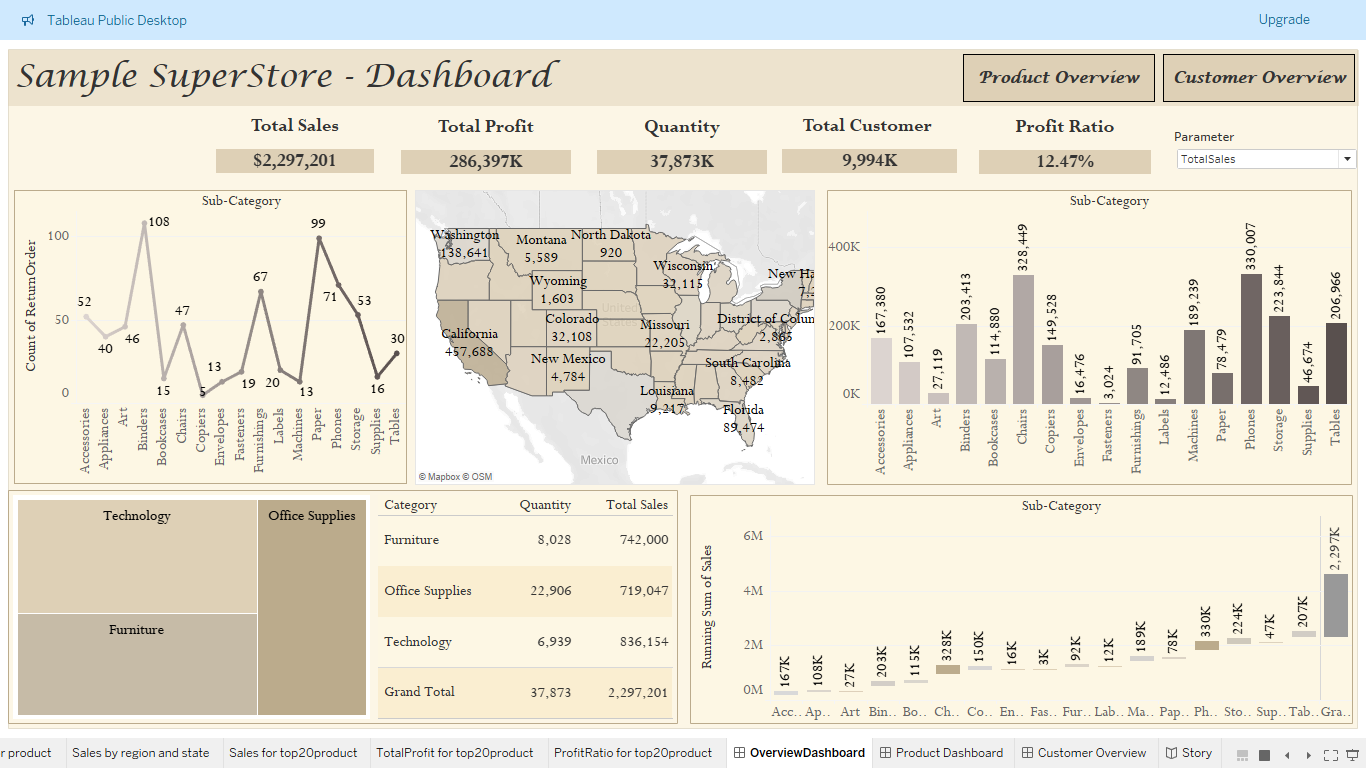

The page's visual inventory and layout, read from the dashboard file:
{"tool":"tableau","page":{"name":"OverviewDashboard","canvas":[1350,680],"ordinal":1},"visuals":[{"type":"text","box":[0,1,951,56]},{"type":"dashboard-object","box":[951,1,200,56]},{"type":"dashboard-object","box":[1151,1,200,56]},{"type":"worksheet","title":"TotalSalesCard","mark":"Automatic","box":[207,61,160,67]},{"type":"worksheet","title":"Count CustomerNUM","mark":"Automatic","box":[774,62,175,71]},{"type":"worksheet","title":"TotalProfit","mark":"Automatic","box":[393,63,170,72]},{"type":"worksheet","title":"Quantity","mark":"Automatic","box":[589,63,170,69]},{"type":"worksheet","title":"ProfitRatio","mark":"Automatic","box":[971,63,172,67]},{"type":"parameter","param":"[Parameters].[Parameter 1]","box":[1166,79,186,48]},{"type":"worksheet","title":"Order&Return","mark":"Line","rows":["Calculation_658370018794364933"],"cols":["Sub-Category"],"box":[6,141,393,294]},{"type":"worksheet","title":"Region Map","mark":"Automatic","box":[407,141,400,295]},{"type":"worksheet","title":"SubCategory Parameter","mark":"Automatic","rows":["Calculation_723953688390991873"],"cols":["Sub-Category"],"box":[819,141,525,295]},{"type":"worksheet","title":"Three Category","mark":"Automatic","box":[1,442,365,232]},{"type":"worksheet","title":"Three Category (Table)","mark":"Automatic","rows":["Category"],"box":[366,442,303,232]},{"type":"worksheet","title":"WaterFull sales and subCategory","mark":"GanttBar","rows":["Sales"],"cols":["Sub-Category"],"box":[682,446,663,229]}]}

Visuals, with their boxes on the page's 1350x680 design canvas (x1, y1, x2, y2). These are canvas units, not pixel positions in the 1366x768 screenshot, which may show the page scaled, cropped or inside an application window:
text: [left=0, top=1, right=951, bottom=57]
dashboard-object: [left=951, top=1, right=1151, bottom=57]
dashboard-object: [left=1151, top=1, right=1351, bottom=57]
"TotalSalesCard" worksheet: [left=207, top=61, right=367, bottom=128]
"Count CustomerNUM" worksheet: [left=774, top=62, right=949, bottom=133]
"TotalProfit" worksheet: [left=393, top=63, right=563, bottom=135]
"Quantity" worksheet: [left=589, top=63, right=759, bottom=132]
"ProfitRatio" worksheet: [left=971, top=63, right=1143, bottom=130]
parameter: [left=1166, top=79, right=1352, bottom=127]
"Order&Return" worksheet (Line marks): [left=6, top=141, right=399, bottom=435]
"Region Map" worksheet: [left=407, top=141, right=807, bottom=436]
"SubCategory Parameter" worksheet: [left=819, top=141, right=1344, bottom=436]
"Three Category" worksheet: [left=1, top=442, right=366, bottom=674]
"Three Category (Table)" worksheet: [left=366, top=442, right=669, bottom=674]
"WaterFull sales and subCategory" worksheet (GanttBar marks): [left=682, top=446, right=1345, bottom=675]
